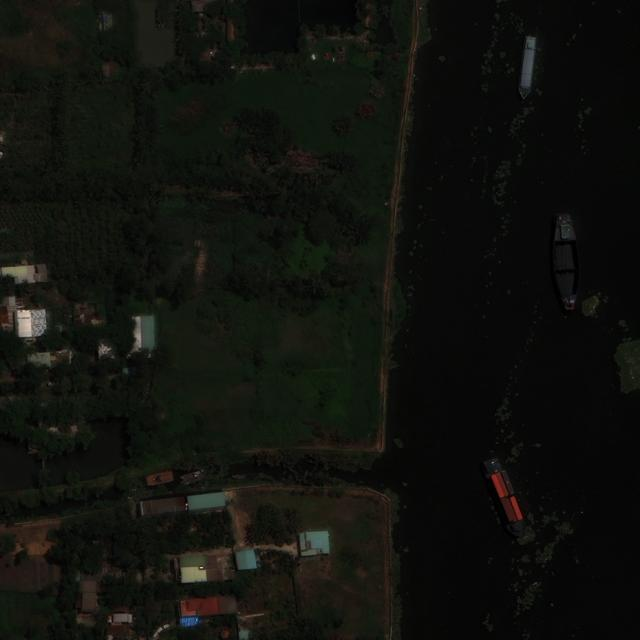Cargo: (552, 213, 578, 311), (517, 34, 537, 102)
Container Ship: (480, 455, 530, 542)
